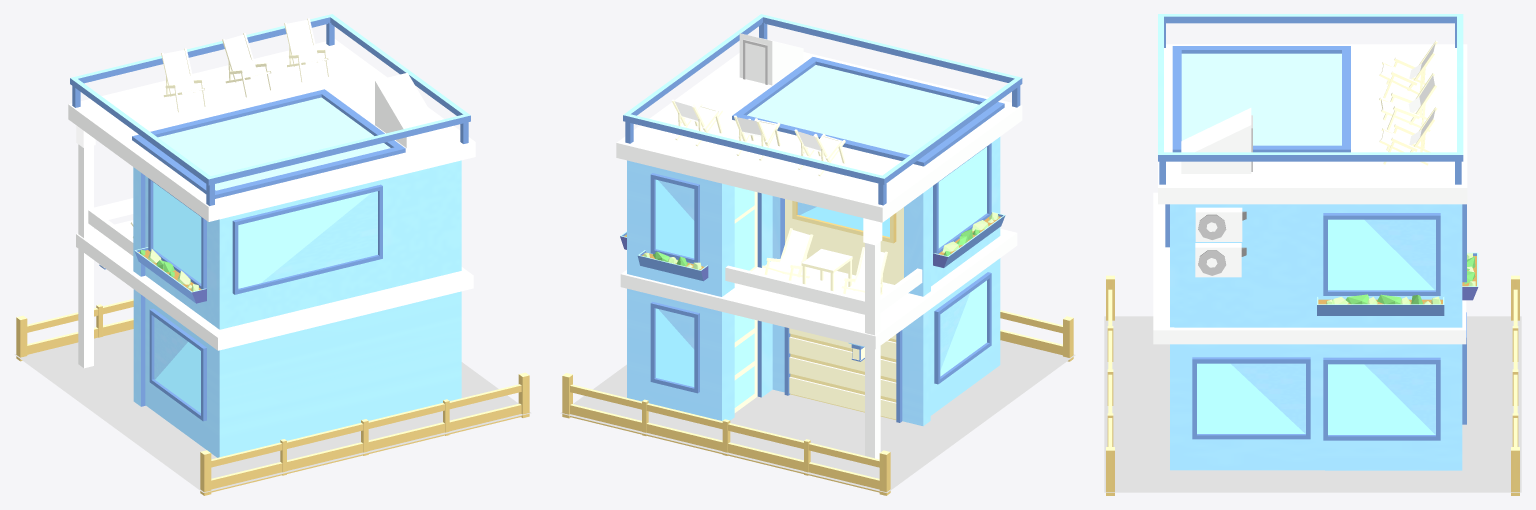
3 views of the same model, side by side, from view 1: azimuth 30°, elevation 25°; view 2: azimuth 150°, elevation 25°; view 3: azimuth 270°, elevation 25° (orthographic). The views are drawn at different scales.
Parts seen in each view (by area): view 1: dwelling modern.009 (2), tile_for_home_1x1.016 (3); view 2: dwelling modern.009 (2), tile_for_home_1x1.016 (3); view 3: dwelling modern.009 (2), tile_for_home_1x1.016 (3).
Part boxes in pixels (<box>): dwelling modern.009 (2): <box>68,14,475,457</box>; tile_for_home_1x1.016 (3): <box>14,299,531,495</box>; dwelling modern.009 (2): <box>616,14,1022,459</box>; tile_for_home_1x1.016 (3): <box>560,310,1075,495</box>; dwelling modern.009 (2): <box>1153,14,1478,470</box>; tile_for_home_1x1.016 (3): <box>1104,275,1521,495</box>.
Size of the model in its own units: 8 by 7.21 by 8.
1 material, 1 textured.
